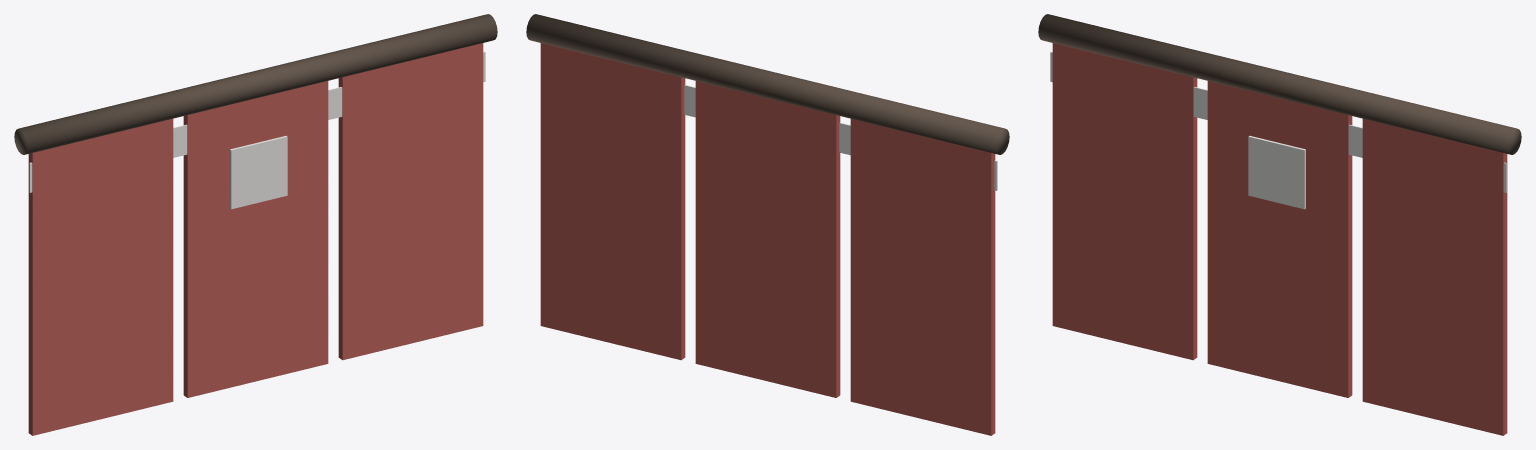
File: prop_noren_split_red.glb
3 views of the same model, side by side, from view 1: azimuth 30°, elevation 25°; view 2: azimuth 150°, elevation 25°; view 3: azimuth 330°, elevation 25° (orthographic).
Visible parts, largest first — view 1: noren_split_red; view 2: noren_split_red; view 3: noren_split_red.
Part boxes in pixels (x1,y1,x2,y2): noren_split_red: (14,14,497,435); noren_split_red: (526,14,1009,435); noren_split_red: (1038,14,1521,435).
Size of the model in its own units: 2 by 1.25 by 0.1.
